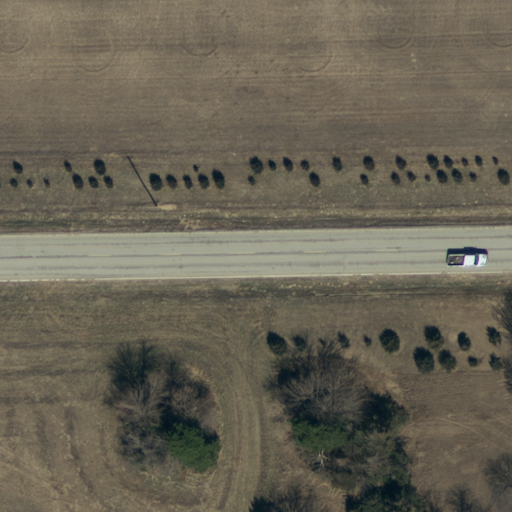DT: (139, 191, 171, 219)
